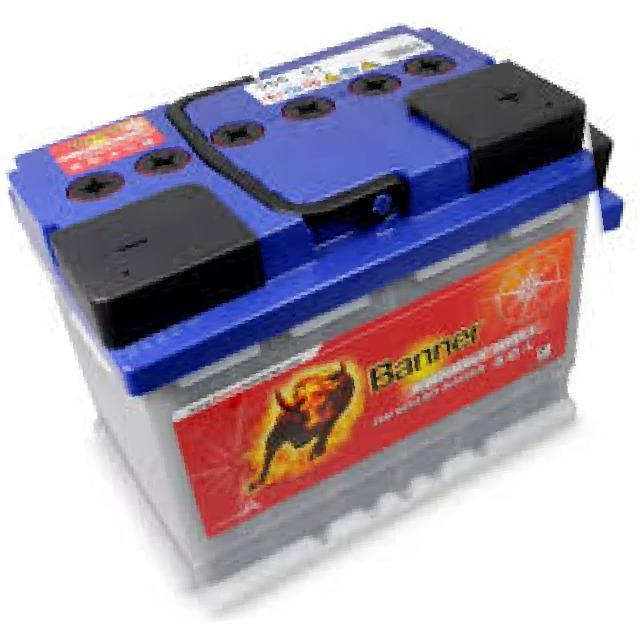Battery: (0, 13, 640, 607)
